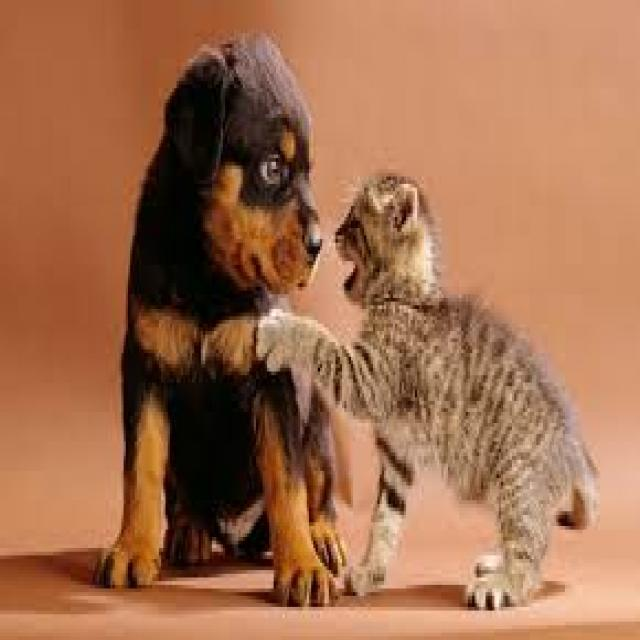cat: (323, 172, 609, 613)
dog: (98, 23, 346, 615)
